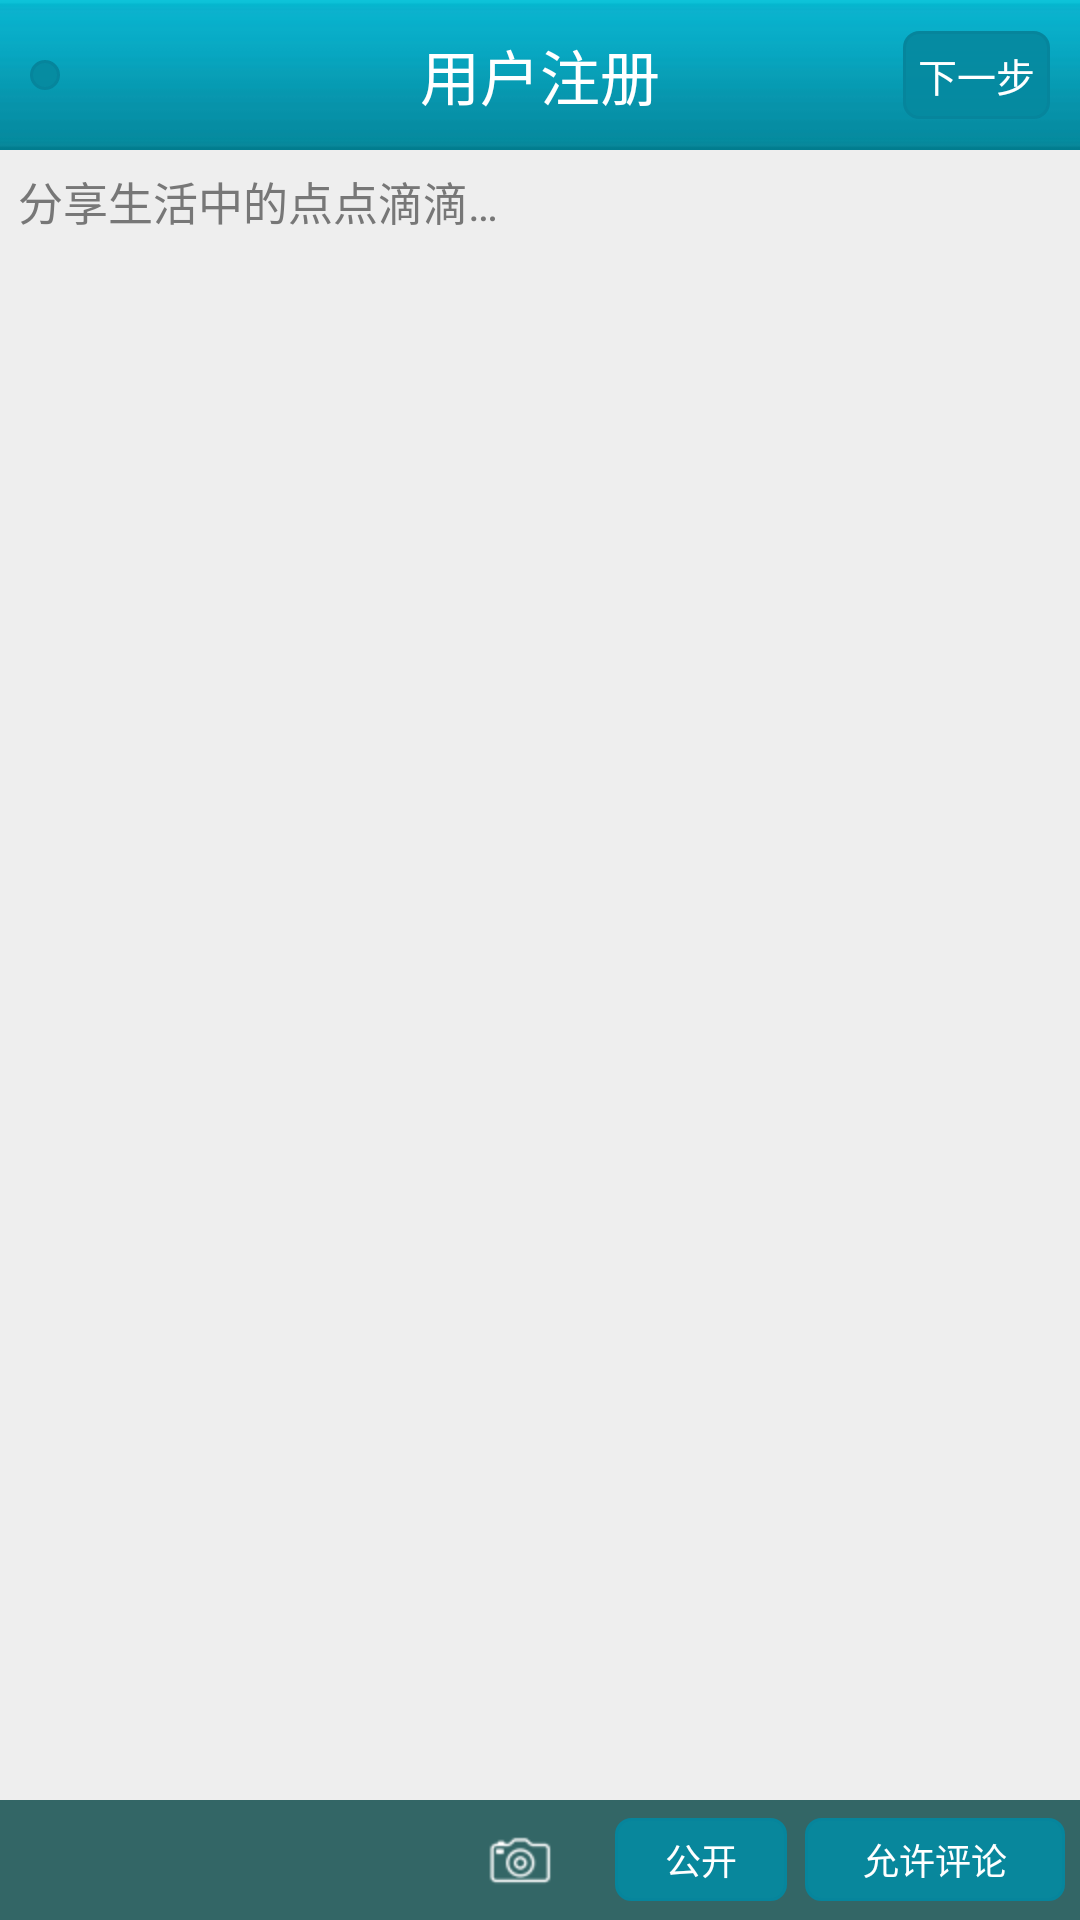

Where to tap for icons on this 1080x1920 app screen, as (x=x, y=y):
pub camera: (x=520, y=1860)
